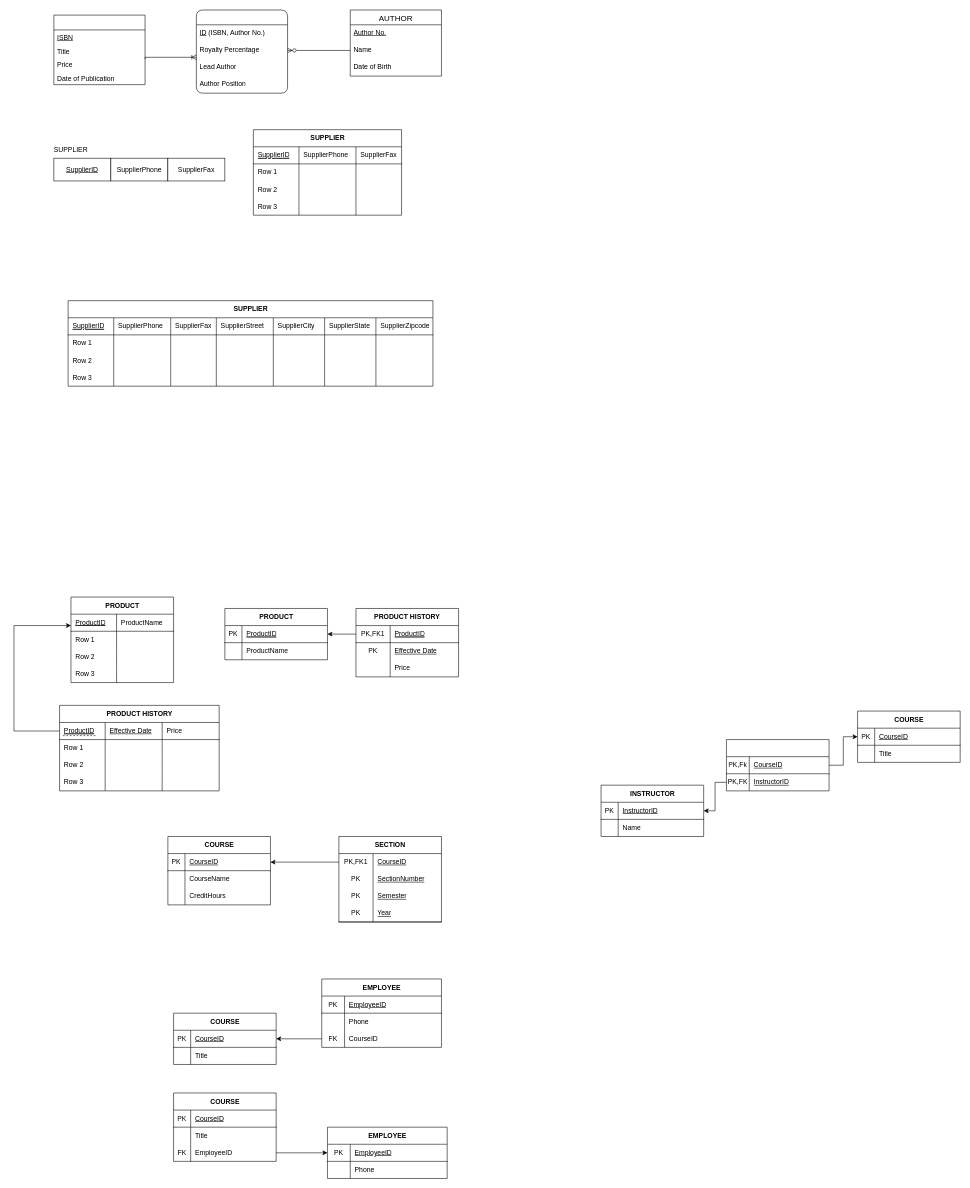
The diagram is 970 pixels wide and 1188 high, and some of its shapes have lost their labels. The box of each missing label's shape, as (x1, y1, x2, y2) in pixels:
ASSIGN: (726, 739, 829, 791)
BOOK: (53, 15, 145, 85)
PAYMENT: (196, 9, 288, 93)
